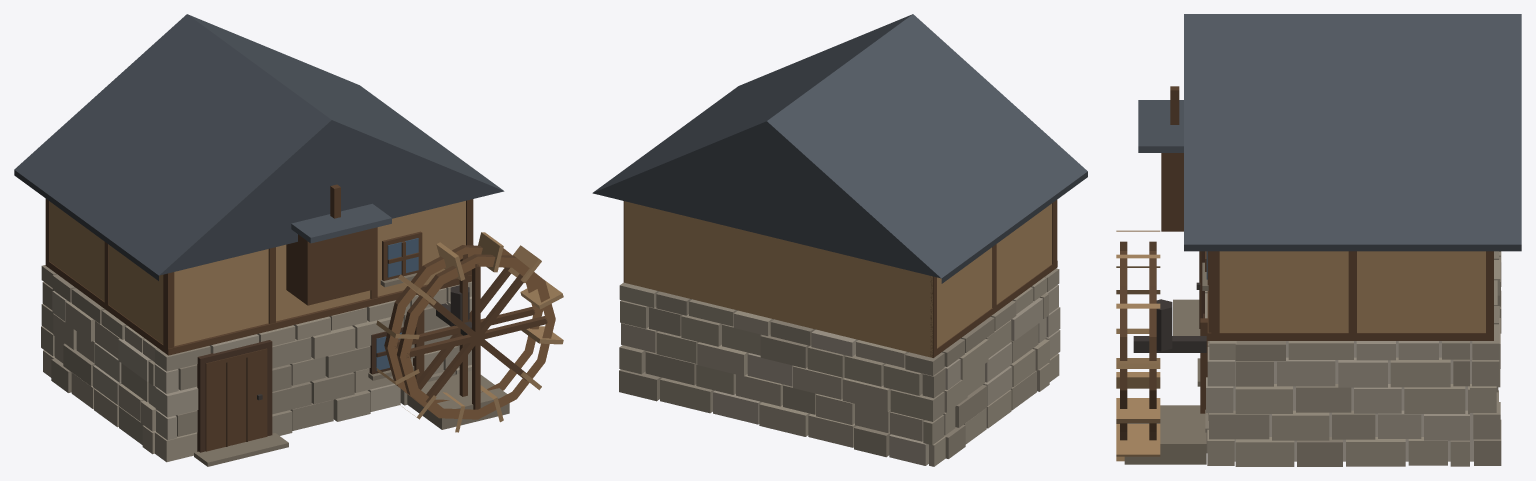
Rendered from mill.glb.
3 views of the same model, side by side, from view 1: azimuth 30°, elevation 25°; view 2: azimuth 150°, elevation 25°; view 3: azimuth 270°, elevation 25° (orthographic). The views are drawn at different scales.
Visible parts, largest first — view 1: mill, Wheel; view 2: mill; view 3: mill, Wheel.
Boxes of the visible parts, left/top/right/bottom form: mill: left=14, top=14, right=509, bottom=466; Wheel: left=376, top=232, right=563, bottom=432; mill: left=592, top=14, right=1087, bottom=466; mill: left=1124, top=14, right=1521, bottom=466; Wheel: left=1116, top=230, right=1172, bottom=461.
Bounding box in the file's own units: 5.54 × 4.44 × 4.44.
